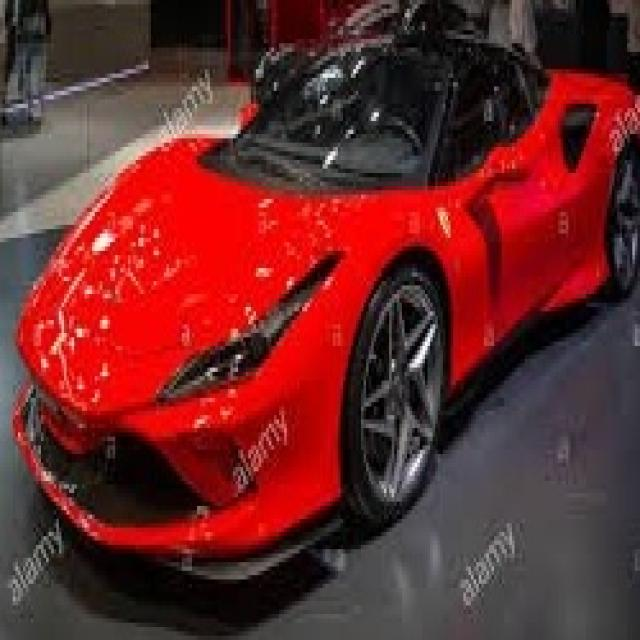red: (9, 59, 640, 562)
